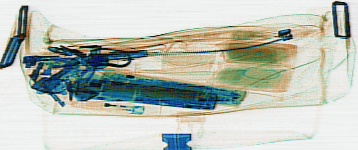lighter: (75, 94, 144, 113)
